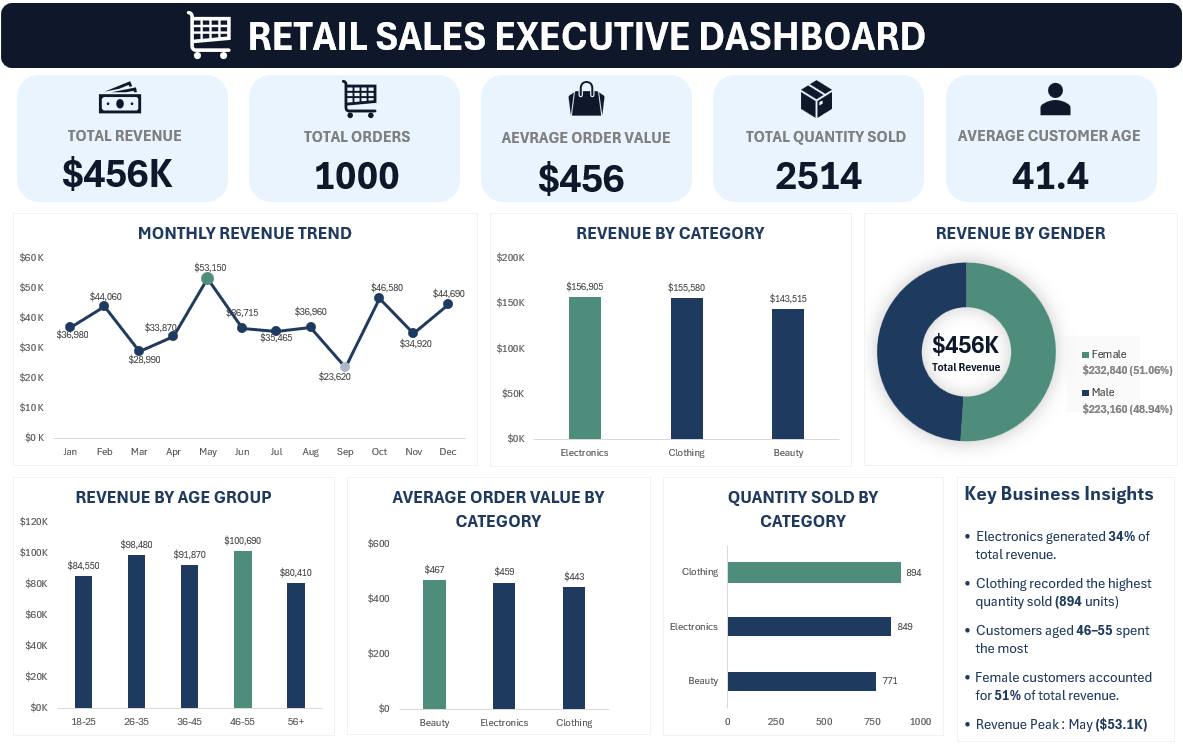

Layout of this report page (visuals, bound fields, positions):
{"tool":"powerbi","page":{"name":"Sales Performance Overview ","canvas":[1280,720],"ordinal":0},"visuals":[{"type":"cardVisual","fields":{"Data":["Retail Sales.Total Revenue"]},"box":[0,80,224,112],"z":0},{"type":"cardVisual","fields":{"Data":["Retail Sales.Total Orders"]},"box":[208,80,224,112],"z":1000},{"type":"cardVisual","fields":{"Data":["Retail Sales.Total Quantity Sold"]},"box":[416,80,224,112],"z":2000},{"type":"cardVisual","fields":{"Data":["Retail Sales.Average Order Value"]},"box":[624,80,224,112],"z":3000},{"type":"cardVisual","fields":{"Data":["Retail Sales.Average Customer Age"]},"box":[832,80,224,112],"z":4000},{"type":"cardVisual","fields":{"Data":["Retail Sales.Average Units Per Order"]},"box":[1040,80,225,112],"z":5000},{"type":"lineChart","title":"Monthly Revenue Trend","fields":{"Category":["Retail Sales.Month"],"Y":["Retail Sales.Total Revenue"]},"box":[16,192,563,250],"z":6000},{"type":"clusteredBarChart","title":"Revenue by Product Category","fields":{"Y":["Retail Sales.Total Revenue"],"Category":["Retail Sales.Product Category"]},"box":[596.5,192,331,250],"z":7000},{"type":"donutChart","title":"Revenue by Gender","fields":{"Category":["Retail Sales.Gender"],"Y":["Retail Sales.Total Revenue"]},"box":[944,192,330,250],"z":8000},{"type":"clusteredColumnChart","title":"Revenue by Age Group","fields":{"Y":["Retail Sales.Total Revenue"],"Category":["Retail Sales.Age Group"]},"box":[16,448,333,257],"z":9000},{"type":"clusteredColumnChart","title":"Quarterly Revenue","fields":{"Category":["Retail Sales.Quarter"],"Y":["Retail Sales.Total Revenue"]},"box":[368,448,330,257],"z":10000},{"type":"shape","box":[0,0,1280,90],"z":11000},{"type":"textbox","box":[16,16,864,80],"z":12000},{"type":"slicer","fields":{"Values":["Retail Sales.Age Group"]},"box":[992,16,128,64],"z":13000},{"type":"slicer","fields":{"Values":["Retail Sales.Gender"]},"box":[1136,16,128,64],"z":14000},{"type":"slicer","fields":{"Values":["Retail Sales.Product Category"]},"box":[848,16,128,64],"z":15000},{"type":"image","box":[0,128,83,38],"z":16000},{"type":"image","box":[208,128,83,38],"z":17000},{"type":"image","box":[416,128,83,38],"z":18000},{"type":"image","box":[848,128,60,49],"z":19000},{"type":"image","box":[1040,128,83,38],"z":20000},{"type":"image","box":[624,128,83,38],"z":21000},{"type":"textbox","box":[720,448,554,257],"z":21001}]}

Visuals, with their boxes on the page's 1280x720 design canvas (x1, y1, x2, y2). These are canvas units, not pixel positions in the 1183x748 screenshot, which may show the page scaled, cropped or inside an application window:
cardVisual - Retail Sales.Total Revenue: {"left": 0, "top": 80, "right": 224, "bottom": 192}
cardVisual - Retail Sales.Total Orders: {"left": 208, "top": 80, "right": 432, "bottom": 192}
cardVisual - Retail Sales.Total Quantity Sold: {"left": 416, "top": 80, "right": 640, "bottom": 192}
cardVisual - Retail Sales.Average Order Value: {"left": 624, "top": 80, "right": 848, "bottom": 192}
cardVisual - Retail Sales.Average Customer Age: {"left": 832, "top": 80, "right": 1056, "bottom": 192}
cardVisual - Retail Sales.Average Units Per Order: {"left": 1040, "top": 80, "right": 1265, "bottom": 192}
"Monthly Revenue Trend" lineChart: {"left": 16, "top": 192, "right": 579, "bottom": 442}
"Revenue by Product Category" clusteredBarChart: {"left": 596, "top": 192, "right": 928, "bottom": 442}
"Revenue by Gender" donutChart: {"left": 944, "top": 192, "right": 1274, "bottom": 442}
"Revenue by Age Group" clusteredColumnChart: {"left": 16, "top": 448, "right": 349, "bottom": 705}
"Quarterly Revenue" clusteredColumnChart: {"left": 368, "top": 448, "right": 698, "bottom": 705}
shape: {"left": 0, "top": 0, "right": 1280, "bottom": 90}
textbox: {"left": 16, "top": 16, "right": 880, "bottom": 96}
slicer - Retail Sales.Age Group: {"left": 992, "top": 16, "right": 1120, "bottom": 80}
slicer - Retail Sales.Gender: {"left": 1136, "top": 16, "right": 1264, "bottom": 80}
slicer - Retail Sales.Product Category: {"left": 848, "top": 16, "right": 976, "bottom": 80}
image: {"left": 0, "top": 128, "right": 83, "bottom": 166}
image: {"left": 208, "top": 128, "right": 291, "bottom": 166}
image: {"left": 416, "top": 128, "right": 499, "bottom": 166}
image: {"left": 848, "top": 128, "right": 908, "bottom": 177}
image: {"left": 1040, "top": 128, "right": 1123, "bottom": 166}
image: {"left": 624, "top": 128, "right": 707, "bottom": 166}
textbox: {"left": 720, "top": 448, "right": 1274, "bottom": 705}
